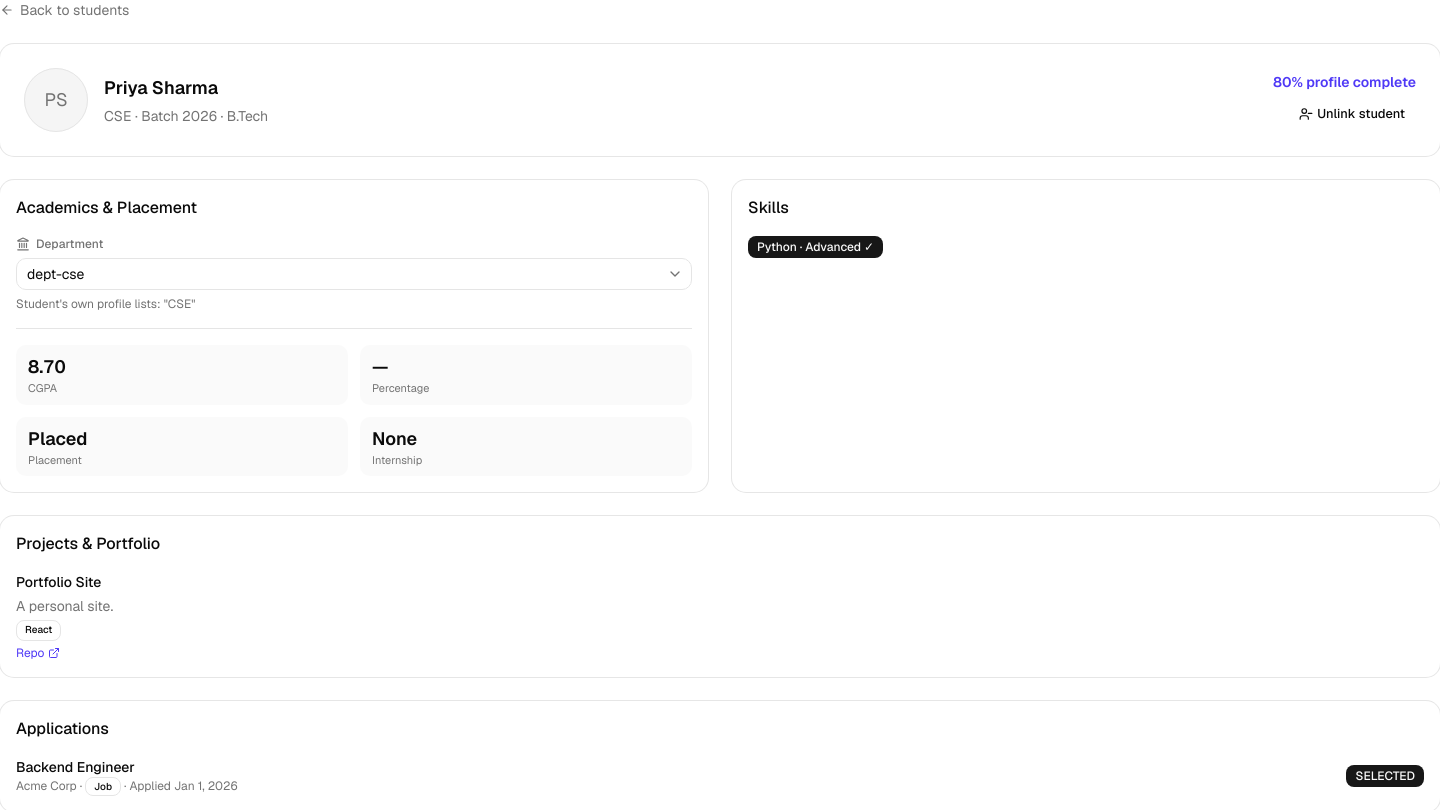
Test: StudentDetailView › unlinks the student through the confirmation dialog
Click the button "Unlink student" at (1352, 114), box [1288,100,1416,128]
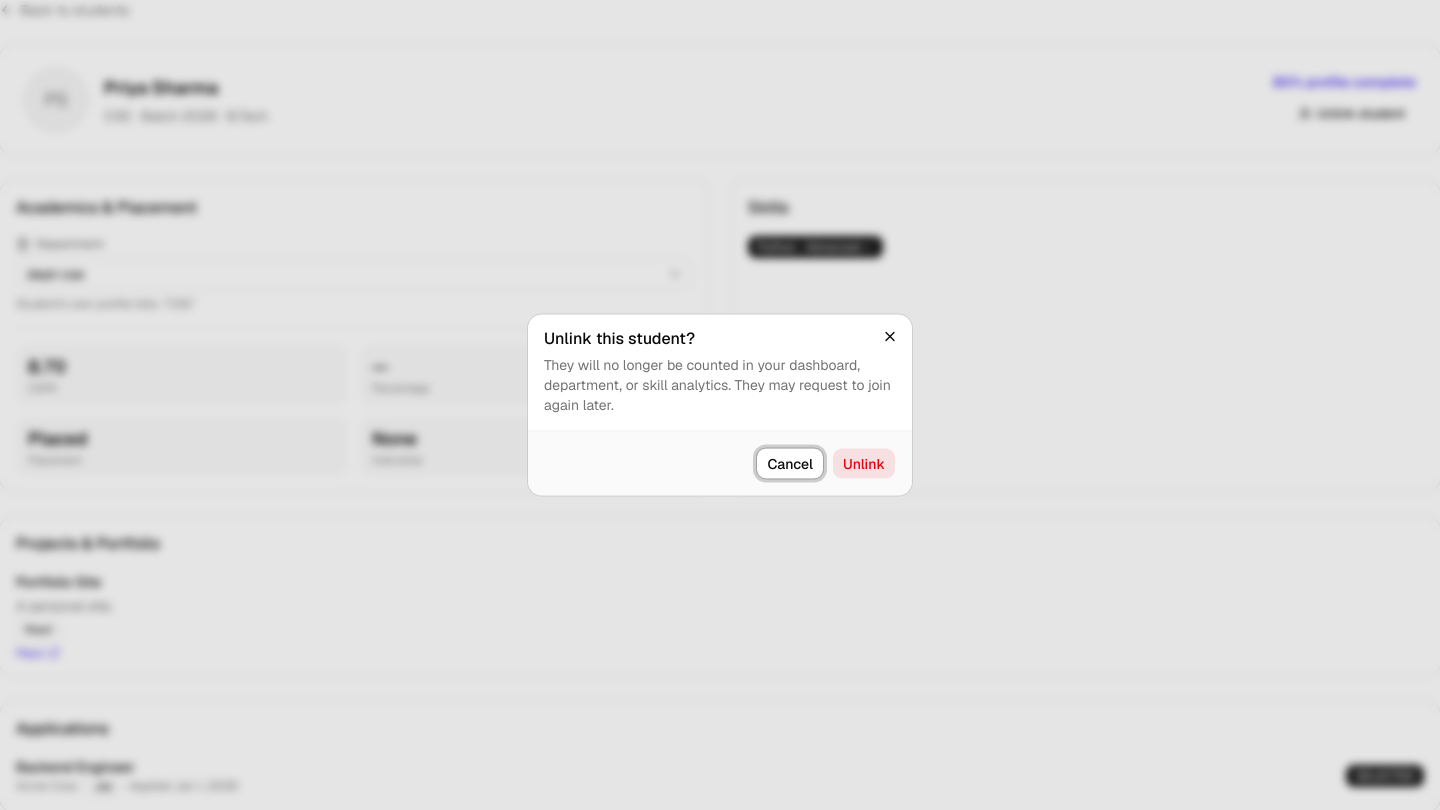
Click the button "Unlink" at (864, 464), box [832,448,896,480]
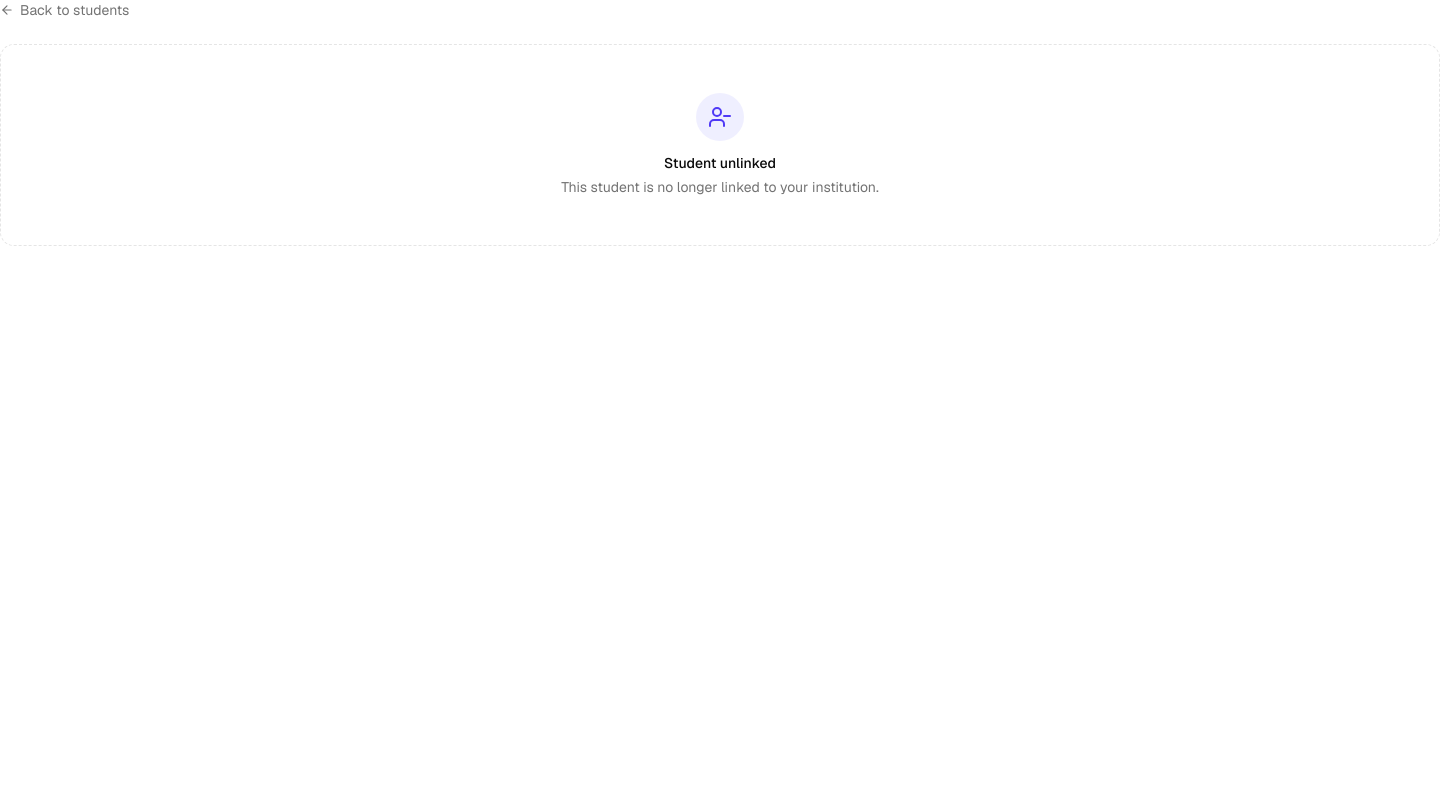
Now the text "Student unlinked" is shown, box [664,154,776,172]
